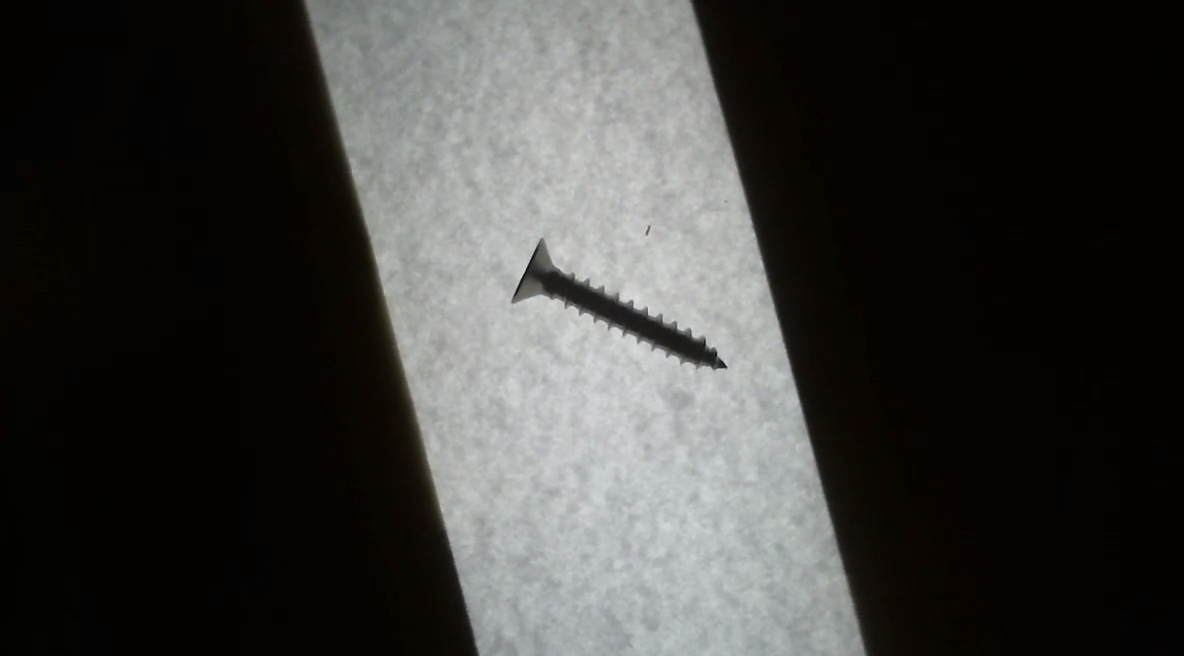S001: (506, 226, 754, 382)
